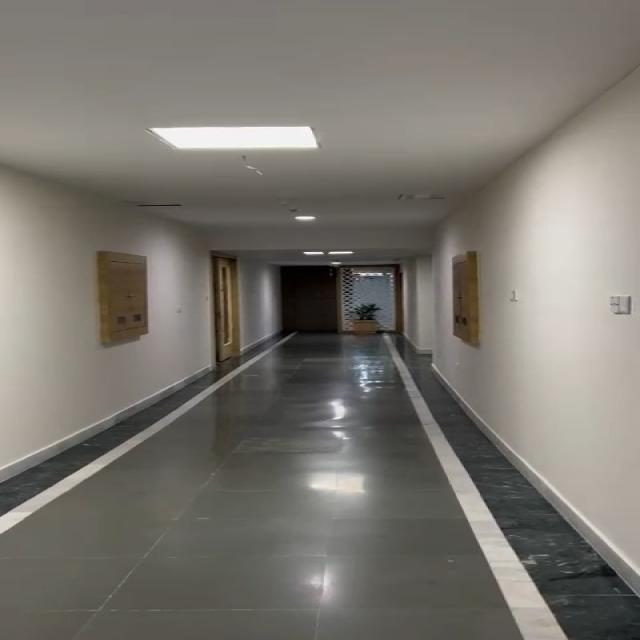door: (201, 259, 251, 365)
floor: (11, 471, 618, 640), (230, 352, 417, 479)
furniture: (344, 300, 391, 342)
wall: (497, 156, 640, 467), (0, 167, 92, 423), (142, 213, 218, 372), (404, 242, 454, 349)
